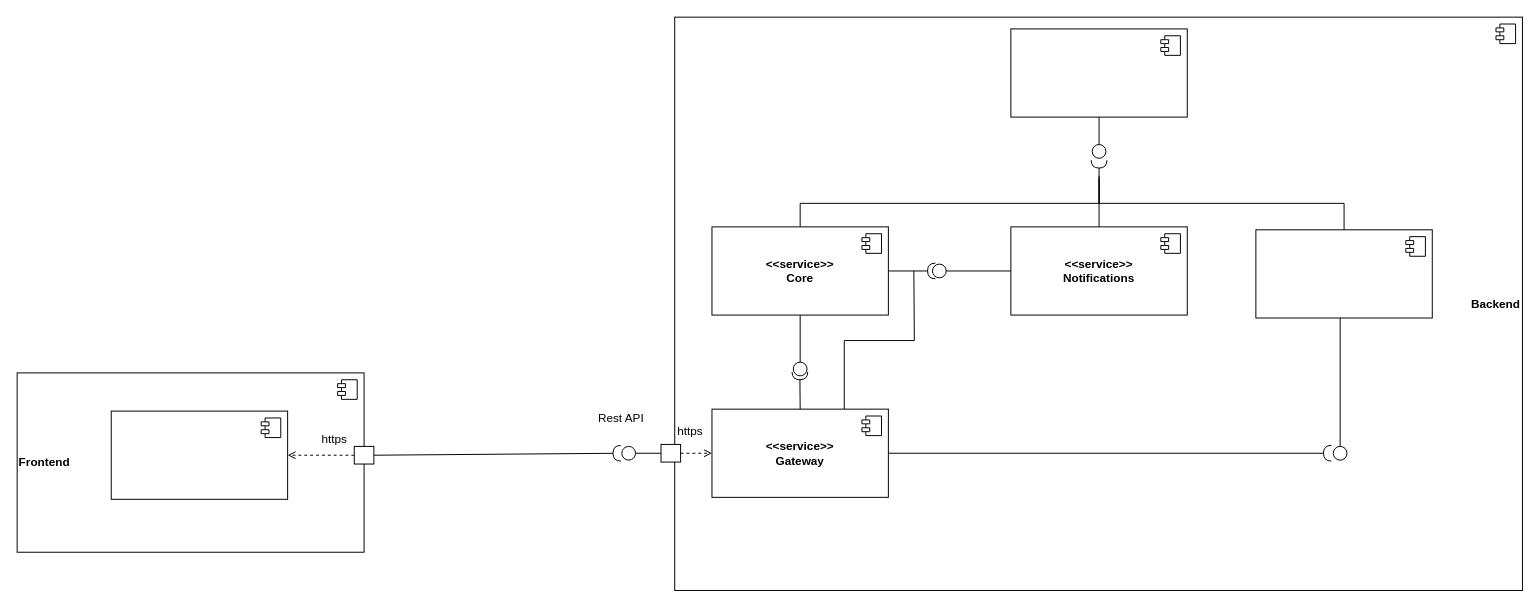
Some shapes in this 1540 by 608 pixel diagram are drawn without their labels. The centre of each missing label's shape, as x and y in pixels:
"<<service>> Authorizaiton" goes at [1343,273].
"iOS app" goes at [199,454].
"PostgreDB" goes at [1098,72].
